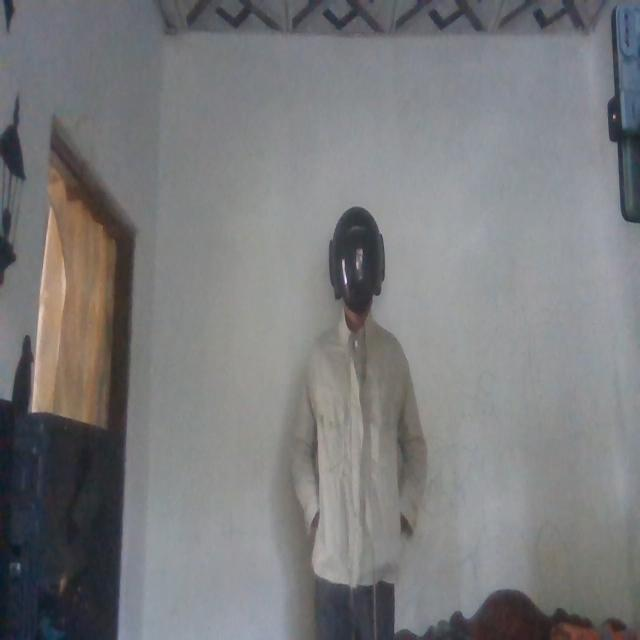Helmet_Wearer: (320, 200, 390, 323)
Jacket_Wearer: (294, 311, 428, 588)
Person: (284, 194, 424, 640)
